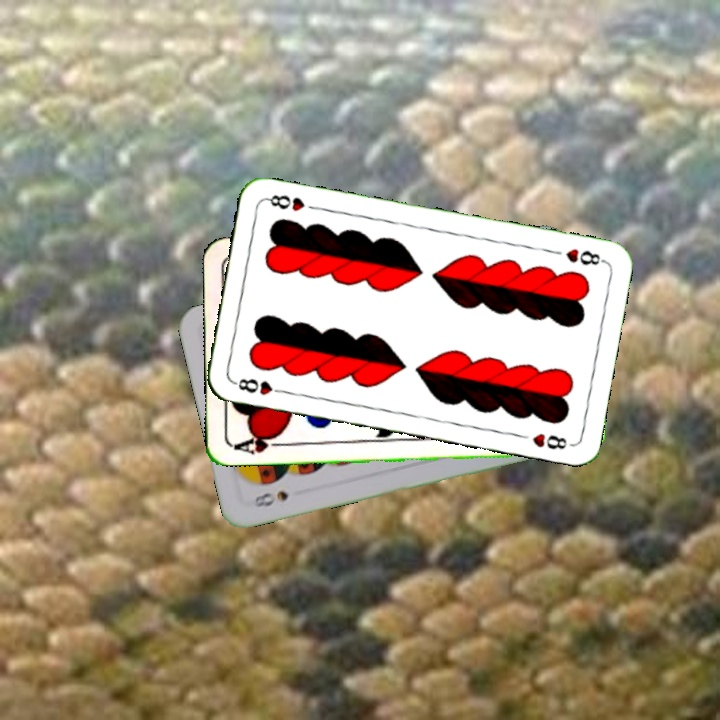H8: (230, 374, 289, 398), (561, 244, 607, 268)
HA: (230, 429, 289, 457)
S8: (248, 486, 291, 510)
